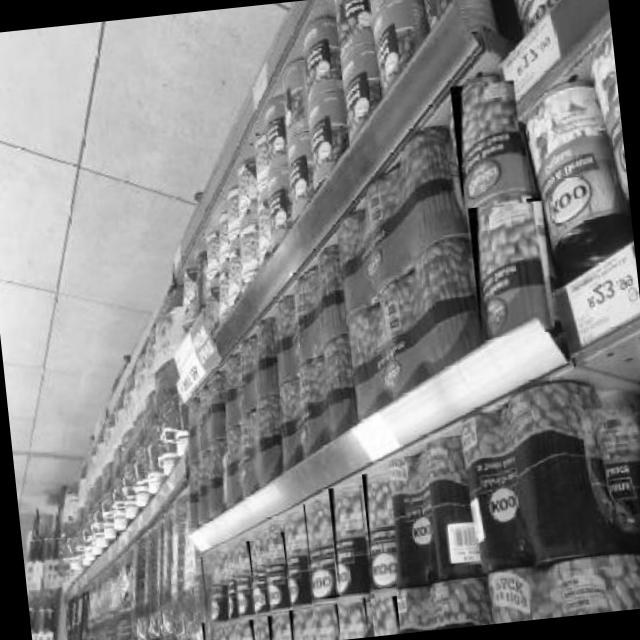Beans: (466, 195, 556, 338), (450, 78, 529, 210), (361, 469, 403, 588), (328, 484, 372, 595), (303, 498, 341, 600), (282, 512, 316, 604), (253, 528, 293, 606), (200, 552, 232, 620), (230, 540, 258, 614), (336, 594, 371, 640), (371, 594, 401, 636), (311, 602, 341, 640), (289, 606, 318, 640), (267, 612, 292, 640), (200, 618, 231, 640), (231, 616, 257, 640), (252, 617, 275, 640)
